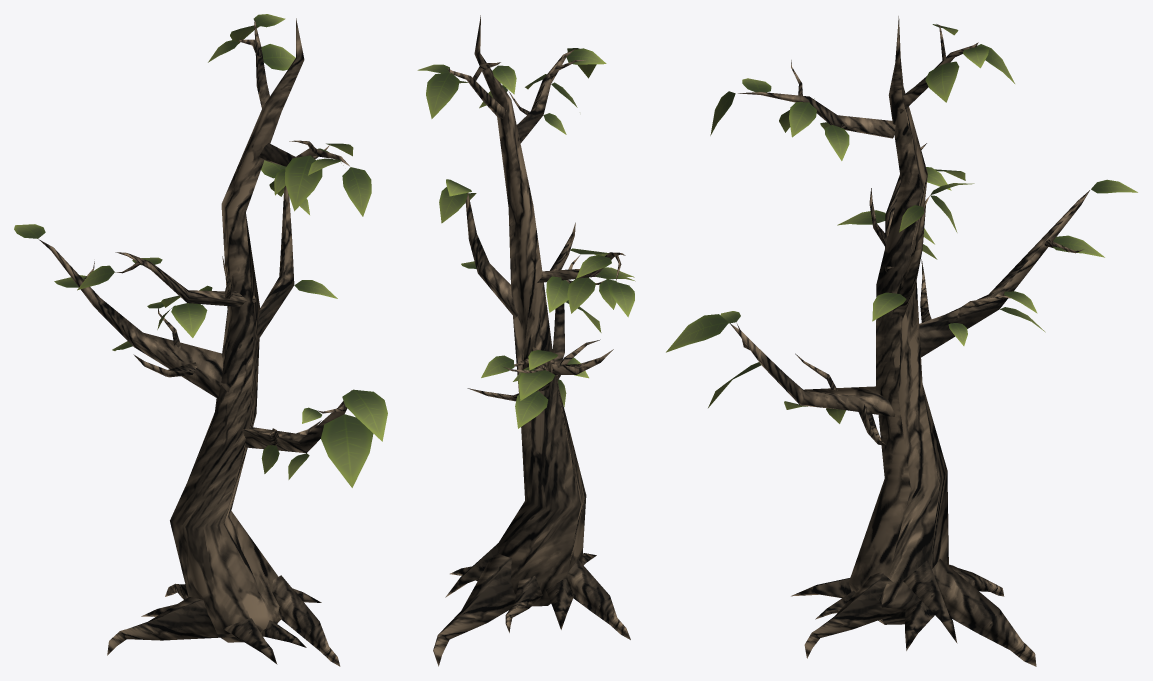
The model's file is assets_tree_bare.fbx.
The picture shows the model from 3 angles, left to right: view 1: azimuth 30°, elevation 25°; view 2: azimuth 150°, elevation 25°; view 3: azimuth 270°, elevation 25°; orthographic projection. The views are drawn at different scales.
Parts seen in each view (by area): view 1: assets_tree_bare_trunk, assets_tree_bare_leaves; view 2: assets_tree_bare_trunk, assets_tree_bare_leaves; view 3: assets_tree_bare_trunk, assets_tree_bare_leaves.
Boxes of the visible parts, left/top/right/bottom form: assets_tree_bare_trunk: left=38, top=18, right=351, bottom=666; assets_tree_bare_leaves: left=14, top=14, right=387, bottom=487; assets_tree_bare_trunk: left=433, top=15, right=630, bottom=666; assets_tree_bare_leaves: left=417, top=48, right=635, bottom=428; assets_tree_bare_trunk: left=729, top=16, right=1089, bottom=666; assets_tree_bare_leaves: left=666, top=24, right=1137, bottom=423.
Bounding box in the file's own units: 14.56 × 40.71 × 26.3.
